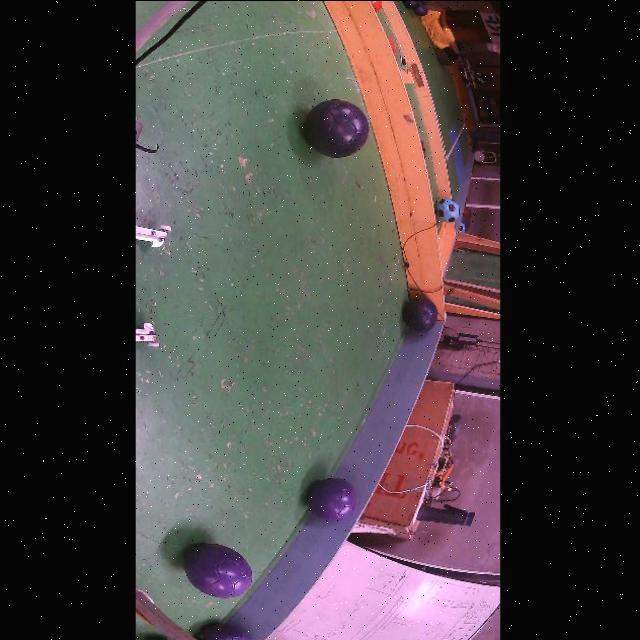B: (304, 99, 369, 157), (403, 296, 438, 332), (202, 622, 249, 640)
P: (185, 543, 252, 597), (308, 477, 357, 520)
